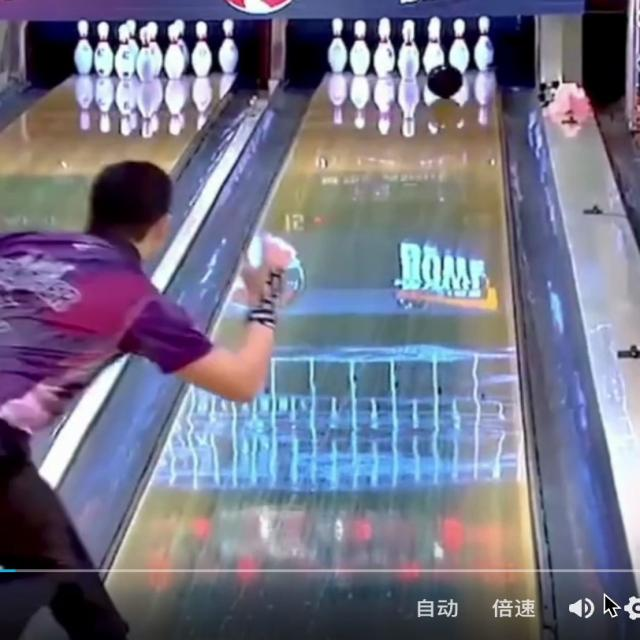alley: (108, 71, 538, 639)
balls: (427, 65, 462, 99)
bottle: (372, 18, 420, 79), (328, 19, 370, 75), (422, 17, 445, 73), (448, 19, 470, 73), (473, 16, 493, 71)
